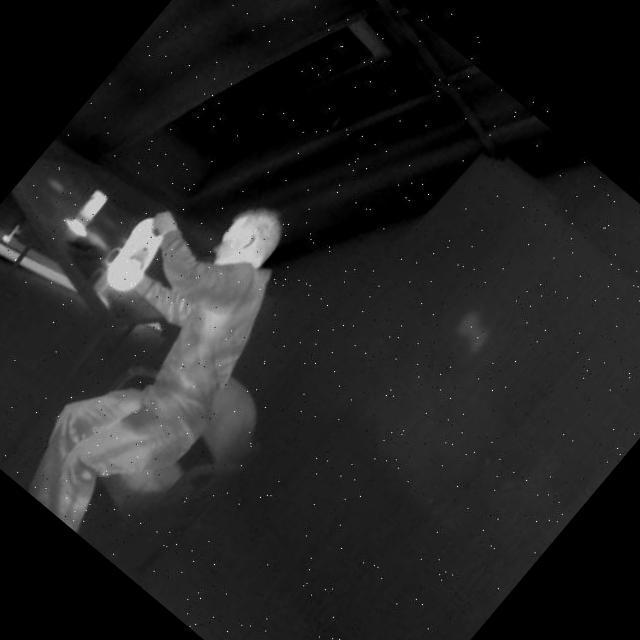person: (0, 147, 367, 573)
